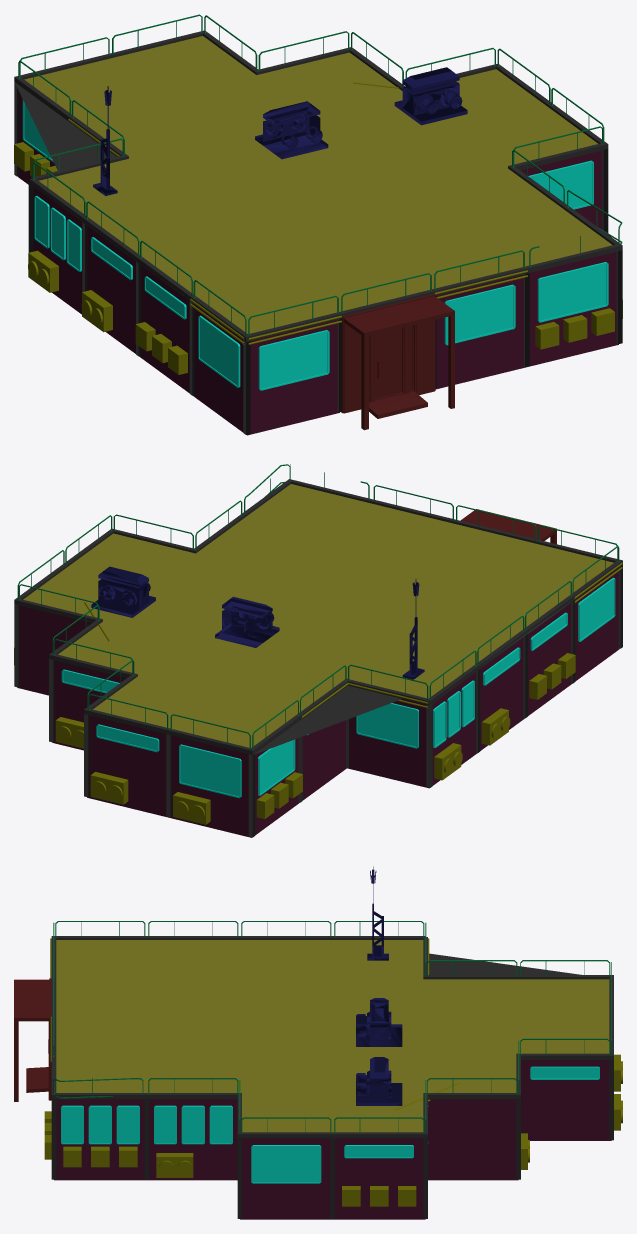
Rendered from BuN_005.fbx.
The picture shows the model from 3 angles, top to bottom: view 1: azimuth 30°, elevation 25°; view 2: azimuth 150°, elevation 25°; view 3: azimuth 270°, elevation 25°; orthographic projection. The views are drawn at different scales.
Parts seen in each view (by area): view 1: Building_Generator1; view 2: Building_Generator1; view 3: Building_Generator1.
Part boxes in pixels (box(x1,y1,x2,y2)): Building_Generator1: box(14, 14, 622, 435); Building_Generator1: box(14, 464, 622, 837); Building_Generator1: box(14, 866, 622, 1219).
Bounding box in the file's own units: 5.22 × 2.1 × 6.55.
